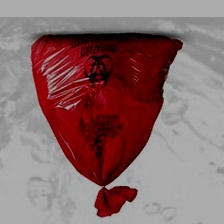plastic_bag: (22, 25, 189, 220)
